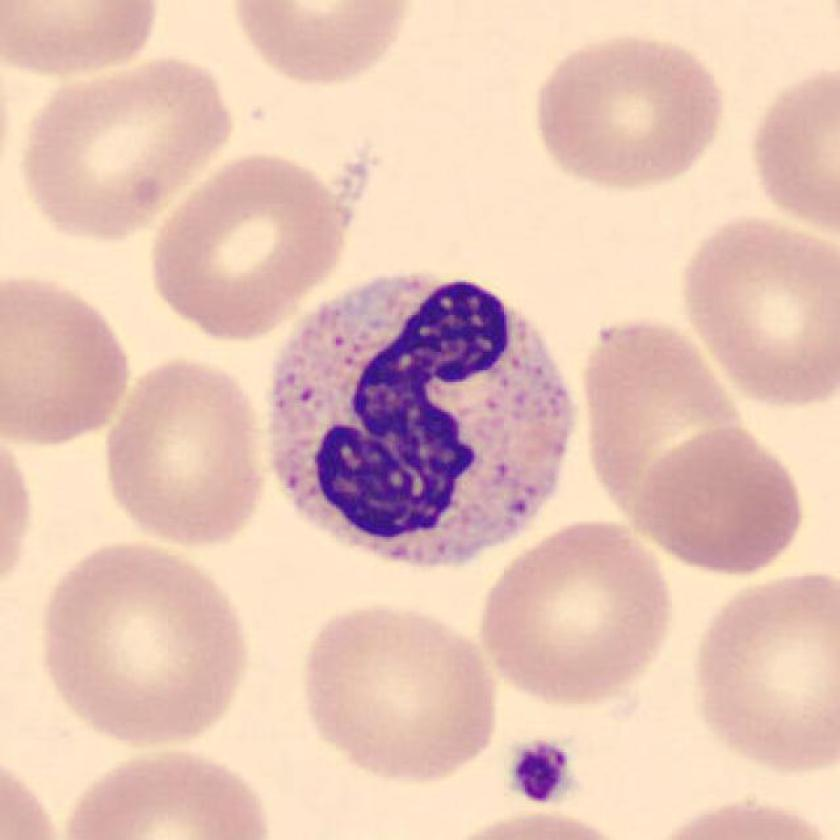neutrophil: (272, 273, 575, 564)
